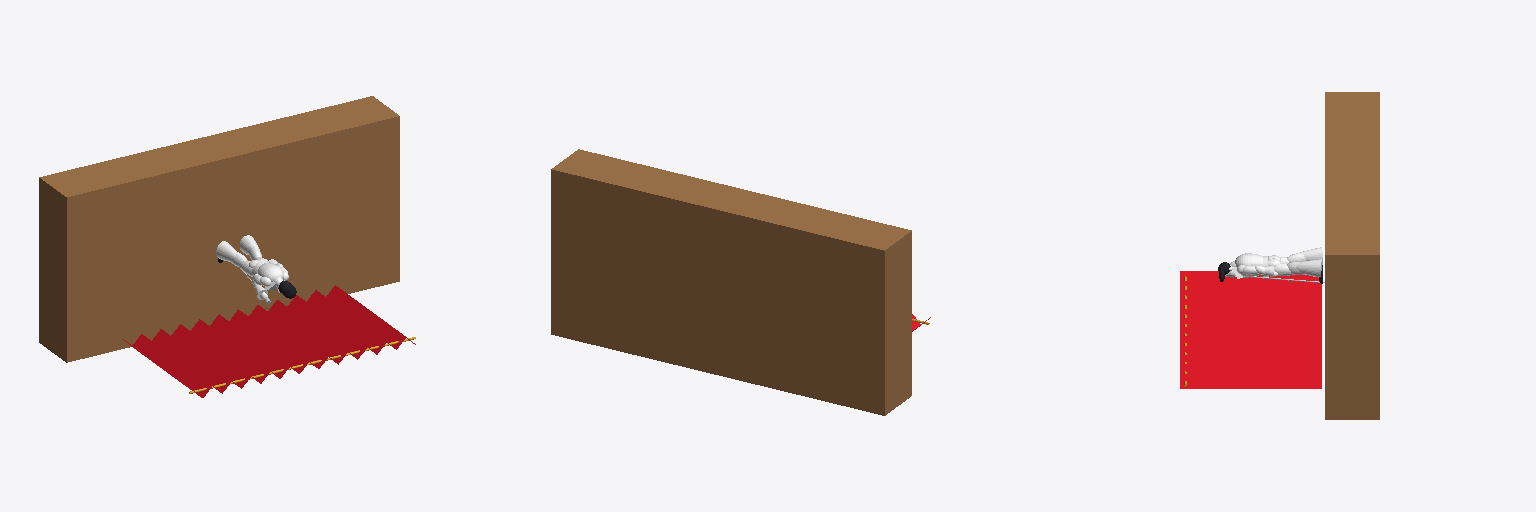
Rendered from tinker.obj.
3 renders of one model, left to right at view 1: azimuth 30°, elevation 25°; view 2: azimuth 150°, elevation 25°; view 3: azimuth 270°, elevation 25°, orthographic.
Visible parts, largest first — view 1: obj_0; view 2: obj_0; view 3: obj_0.
Part boxes in pixels (left/top/right/bottom): obj_0: left=39, top=96, right=415, bottom=397; obj_0: left=551, top=149, right=930, bottom=415; obj_0: left=1180, top=92, right=1379, bottom=419.
Size of the model in its own units: 140 by 66.3 by 72.8.